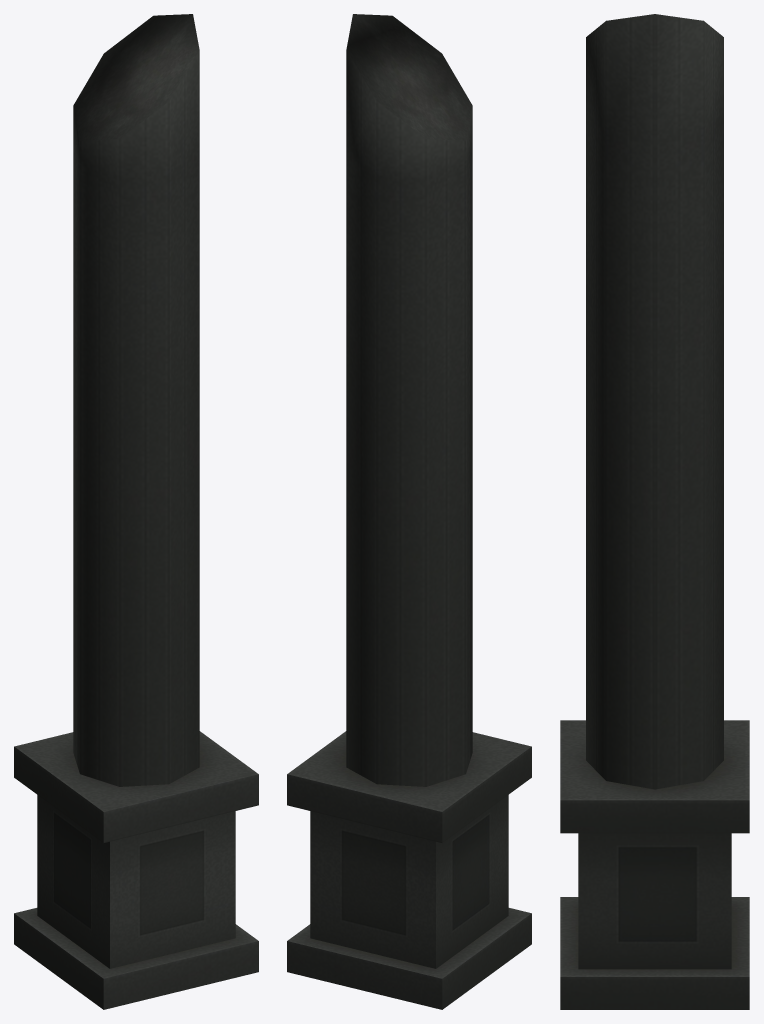
The model's file is hasira1.fbx.
3 views of the same model, side by side, from view 1: azimuth 30°, elevation 25°; view 2: azimuth 150°, elevation 25°; view 3: azimuth 270°, elevation 25° (orthographic). The views are drawn at different scales.
Visible parts, largest first — view 1: hasira1; view 2: hasira1; view 3: hasira1.
Boxes of the visible parts, x1,y1,x2,y2 form: hasira1: (14,14,258,1009); hasira1: (287,14,531,1009); hasira1: (560,14,749,1009).
Size of the model in its own units: 2.25 by 12.9 by 2.25.
1 material, 1 textured.
